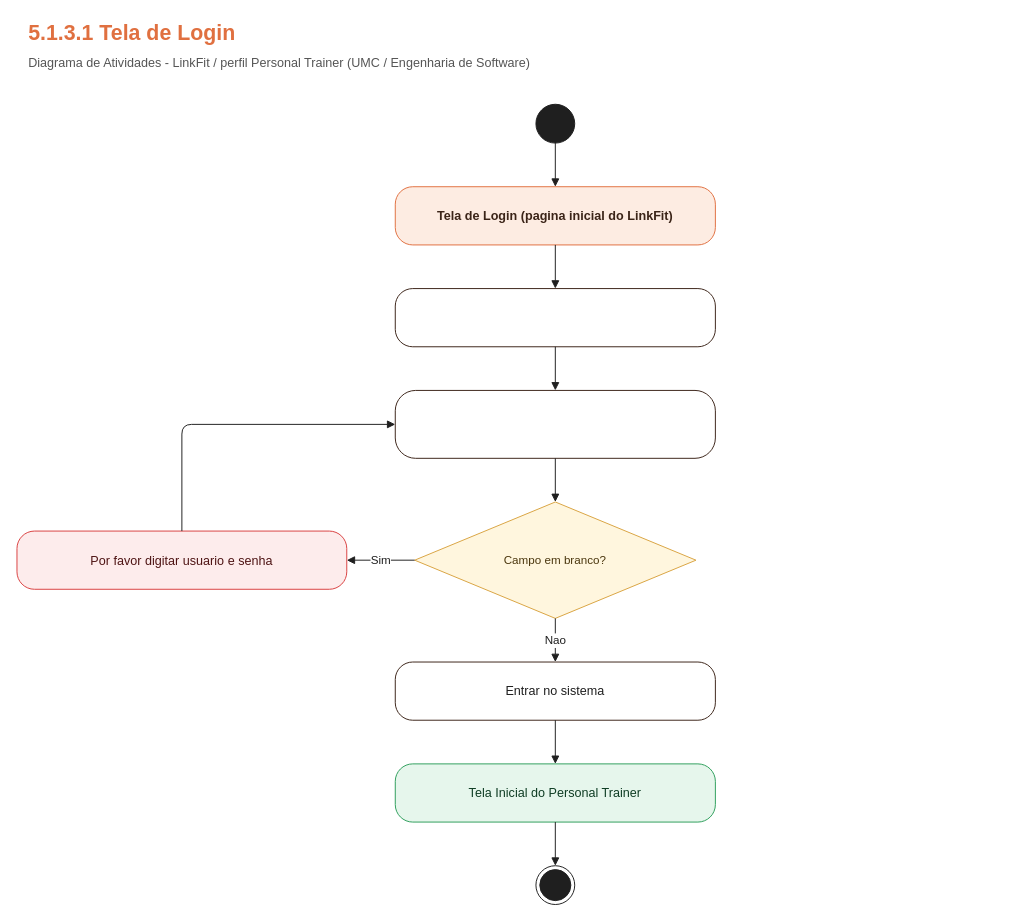
Image size: 1014x922. Some labels were removed from this diagram. Here are the shapes that lost their labels. From the top down, the centre of each, then its label:
At point (554, 317): "Escolher 'Fazer login' ou 'Criar conta'".
At point (554, 423): "Preencher e-mail, senha e selecionar o perfil 'Personal trainer'".
